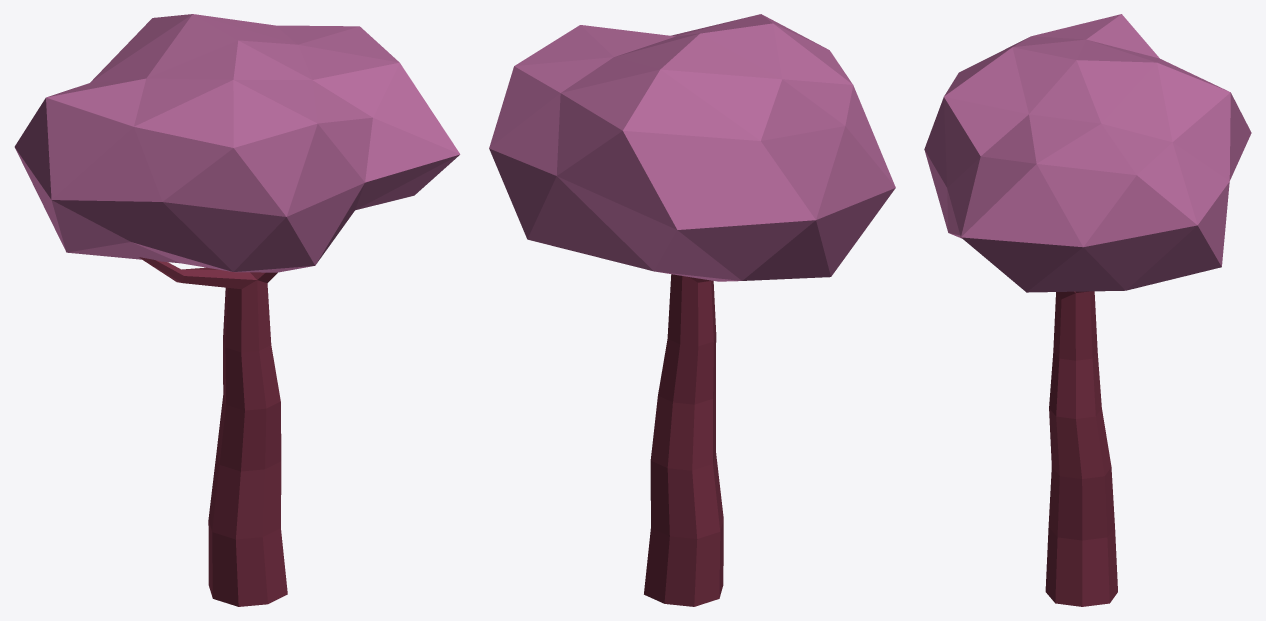
Rendered from Mo_ForestTree09.fbx.
3 renders of one model, left to right at view 1: azimuth 30°, elevation 25°; view 2: azimuth 150°, elevation 25°; view 3: azimuth 270°, elevation 25°, orthographic. The views are drawn at different scales.
Visible parts, largest first — view 1: Icosphere; view 2: Icosphere; view 3: Icosphere.
Part boxes in pixels (x1,y1,x2,y2): Icosphere: (14, 14, 460, 606); Icosphere: (489, 14, 895, 606); Icosphere: (924, 14, 1251, 606).
Size of the model in its own units: 187 by 262 by 148.
